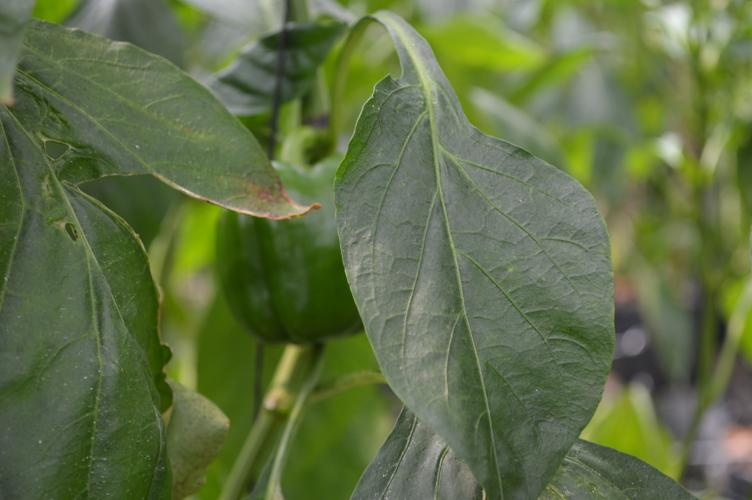BellPepper: (207, 155, 367, 341)
